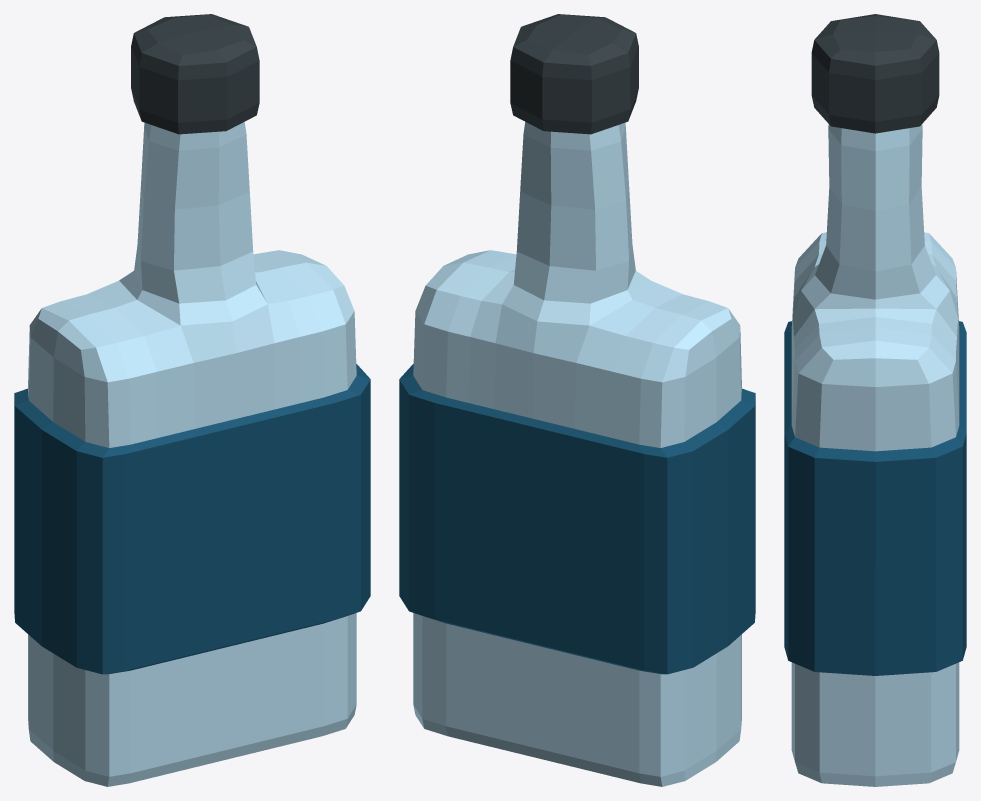
File: Garrafa_02.fbx
The picture shows the model from 3 angles, left to right: view 1: azimuth 30°, elevation 25°; view 2: azimuth 150°, elevation 25°; view 3: azimuth 270°, elevation 25°; orthographic projection.
Parts seen in each view (by area): view 1: Cube, Cube.001; view 2: Cube, Cube.001; view 3: Cube, Cube.001.
Boxes of the visible parts, x1=… form: Cube: x1=14, y1=122, x2=370, y2=786; Cube.001: x1=131, y1=14, x2=259, y2=134; Cube: x1=399, y1=122, x2=755, y2=786; Cube.001: x1=510, y1=14, x2=638, y2=134; Cube: x1=784, y1=124, x2=966, y2=786; Cube.001: x1=811, y1=14, x2=939, y2=133.
Size of the model in its own units: 1.45 by 3.15 by 0.7537.
